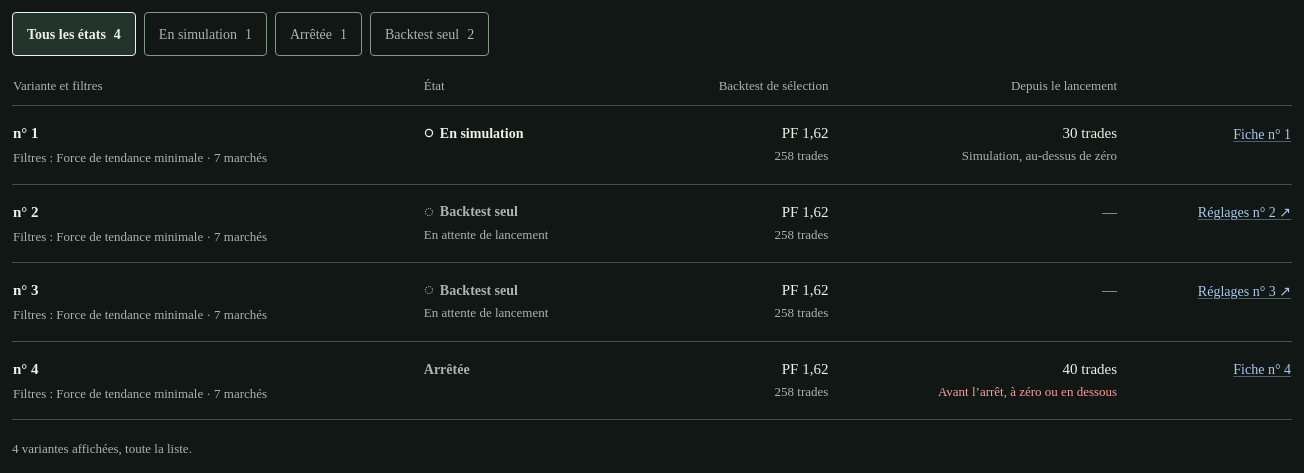
Test case: VariantTable, filtered by state › keeps only the rows of the chosen state, and gives them all back
This screenshot has width=1304, height=473.
Click the button "Backtest seul 2" at (430, 34), box [370,12,489,56]
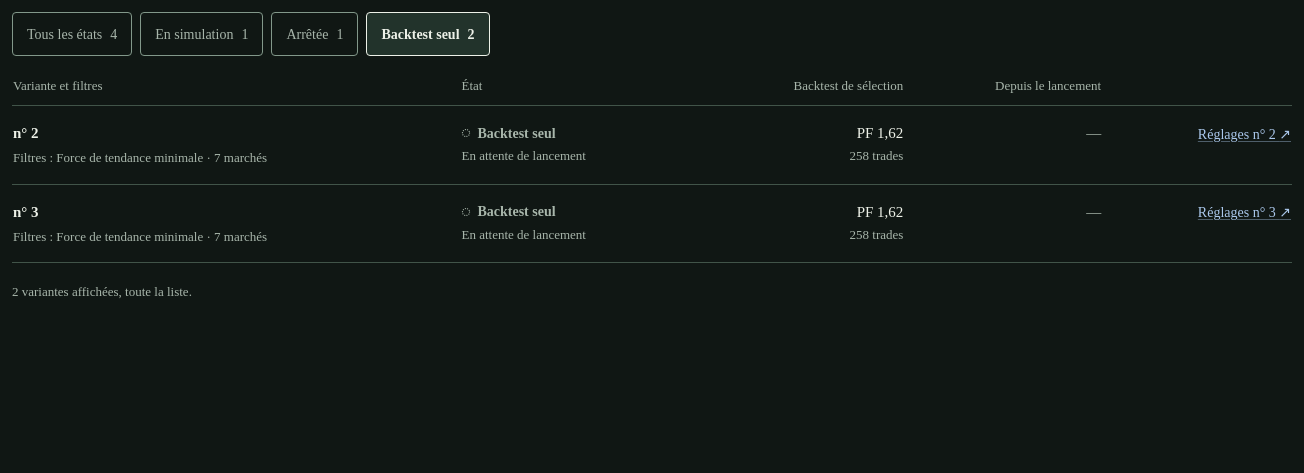
Now the number of rows with test id "variant-row" is 2, box [12,106,1292,184]; [12,184,1292,262]
Now the text "2 variantes affichées, toute la liste." is shown, box [12,283,192,301]
Click the button "Tous les états 4" at (72, 34), box [12,12,132,56]
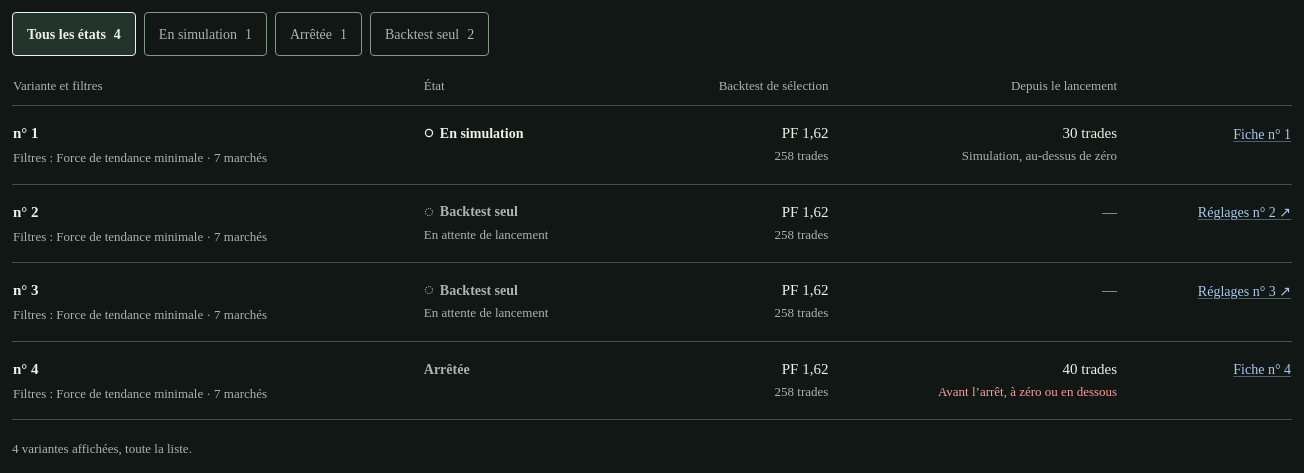
Now the number of rows with test id "variant-row" is 4, box [12,106,1292,184]; [12,184,1292,262]; [12,263,1292,341]; [12,341,1292,419]
